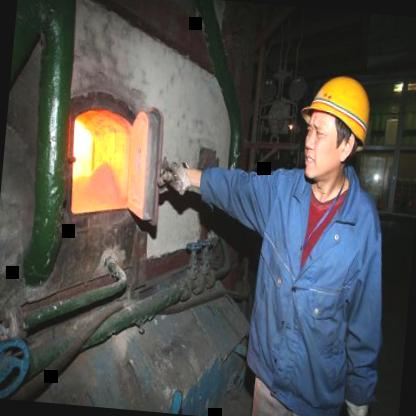helmet: (292, 59, 384, 193)
